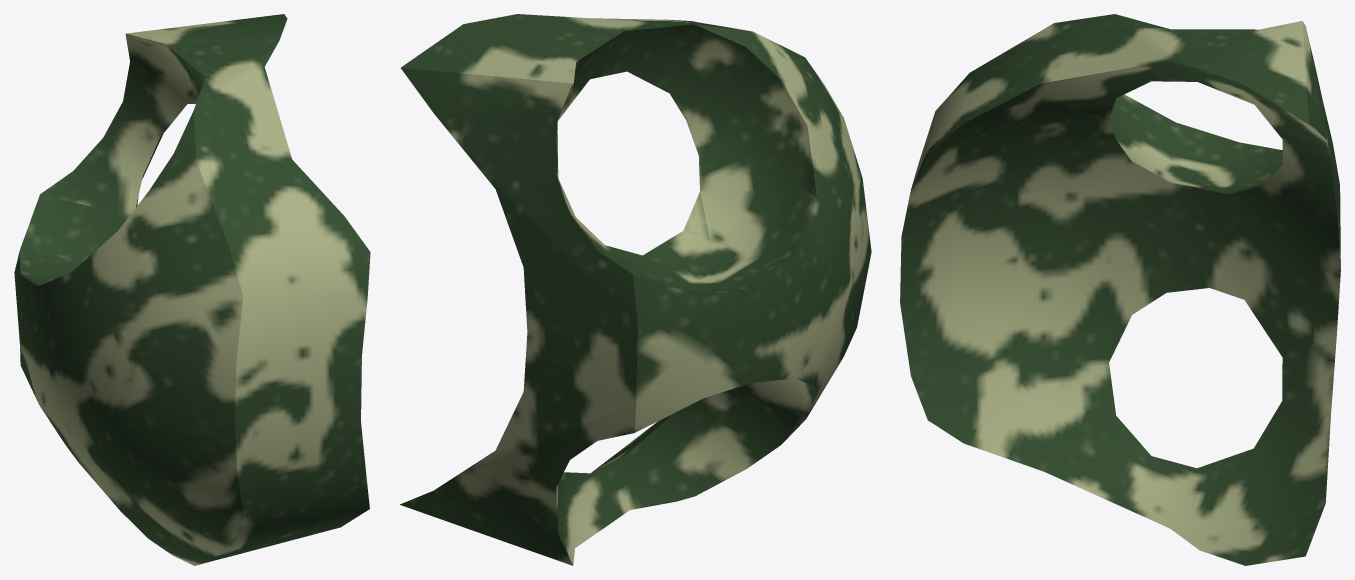
Rendered from link_body_02.obj.
3 renders of one model, left to right at view 1: azimuth 30°, elevation 25°; view 2: azimuth 150°, elevation 25°; view 3: azimuth 270°, elevation 25°, orthographic. The views are drawn at different scales.
Parts seen in each view (by area): view 1: link_body_02; view 2: link_body_02; view 3: link_body_02.
Part boxes in pixels (left/top/right/bottom): link_body_02: left=14, top=14, right=370, bottom=565; link_body_02: left=400, top=14, right=871, bottom=565; link_body_02: left=900, top=14, right=1340, bottom=565.
Bounding box in the file's own units: 9.51 × 13.12 × 10.88.
